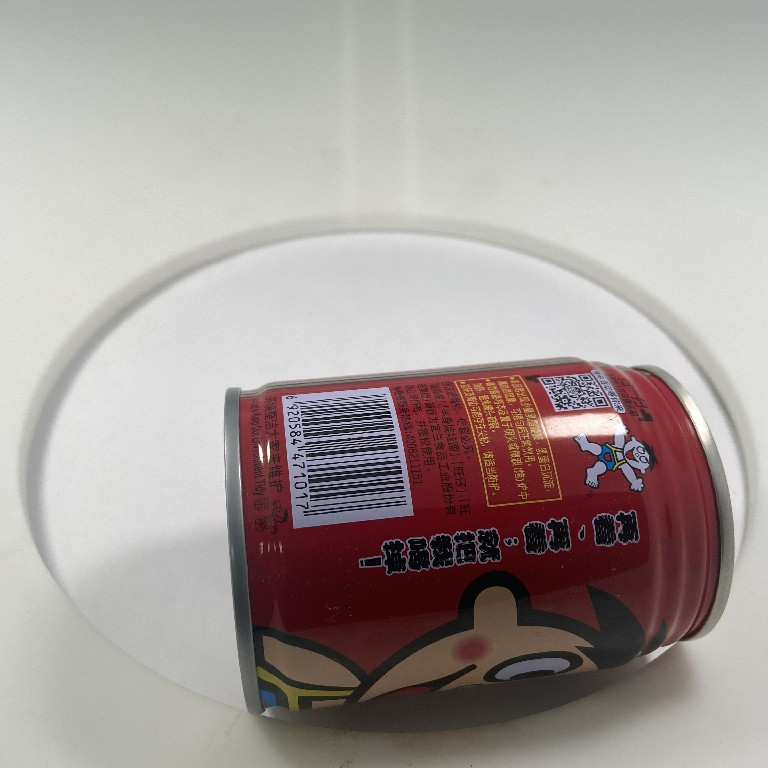can: (214, 353, 739, 721)
